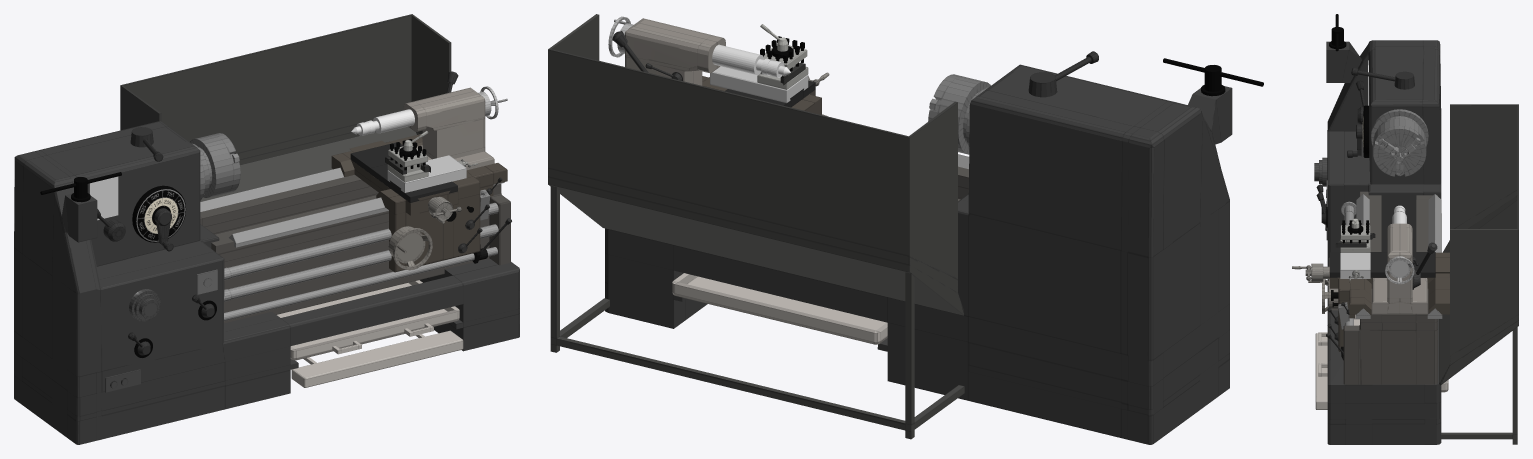
The picture shows the model from 3 angles, left to right: view 1: azimuth 30°, elevation 25°; view 2: azimuth 150°, elevation 25°; view 3: azimuth 270°, elevation 25°; orthographic projection. The views are drawn at different scales.
Visible parts, largest first — view 1: 平面, 平面.002, 立方体, 平面.008, 円.009, 平面.005, 立方体.005, 立方体.004, 平面.004, 円.007, 円.042, 平面.006 (+11 smaller); view 2: 平面, 平面.002, 立方体.003, 平面.004, 平面.005, 円.007, 平面.009, 円.041, 円.008, 円.019, 円.010; view 3: 平面, 平面.002, 立方体, 平面.005, 円.007, 平面.008, 立方体.005, 立方体.003, 平面.006, 立方体.004, 平面.009, 円.017 (+13 smaller).
Part boxes in pixels (x1,y1,x2,y2): 平面: [14, 121, 519, 444]; 平面.002: [120, 14, 451, 201]; 立方体: [200, 174, 510, 323]; 平面.008: [331, 134, 507, 272]; 円.009: [224, 202, 498, 320]; 平面.005: [403, 87, 494, 169]; 立方体.005: [200, 167, 504, 247]; 立方体.004: [291, 330, 463, 387]; 平面.004: [277, 280, 459, 360]; 円.007: [190, 133, 240, 200]; 円.042: [132, 185, 186, 242]; 平面.006: [350, 142, 457, 202]; 平面: [605, 64, 1232, 444]; 平面.002: [548, 14, 963, 315]; 立方体.003: [550, 185, 964, 439]; 平面.004: [672, 273, 887, 344]; 平面.005: [625, 18, 725, 85]; 円.007: [928, 74, 990, 154]; 平面.009: [710, 66, 808, 102]; 円.041: [712, 44, 764, 74]; 円.008: [1028, 51, 1098, 97]; 円.019: [1163, 58, 1263, 91]; 円.010: [757, 44, 808, 89]; 平面: [1326, 40, 1441, 444]; 平面.002: [1439, 104, 1518, 385]; 立方体: [1343, 191, 1437, 384]; 平面.005: [1372, 223, 1427, 313]; 円.007: [1371, 109, 1428, 176]; 平面.008: [1329, 252, 1449, 351]; 立方体.005: [1356, 194, 1442, 318]; 立方体.003: [1441, 327, 1517, 444]; 平面.006: [1330, 252, 1435, 277]; 立方体.004: [1315, 333, 1327, 409]; 平面.009: [1340, 253, 1370, 278]; 円.017: [1385, 256, 1414, 284].
Bounding box in the file's own units: 1676 × 840 × 755.
